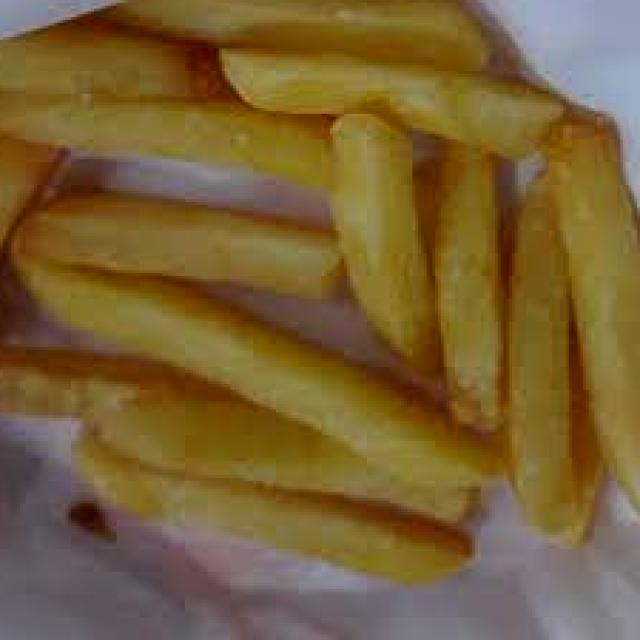kentang goreng: (9, 247, 509, 486), (501, 168, 606, 549)
